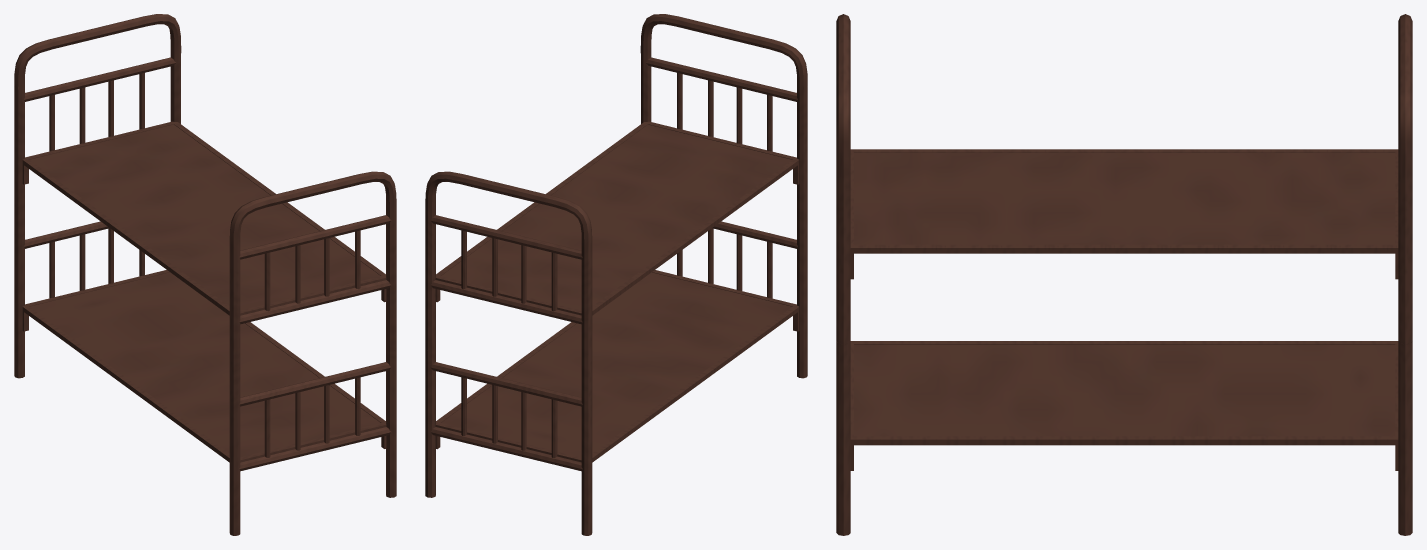
Rendered from Bed2.fbx.
3 views of the same model, side by side, from view 1: azimuth 30°, elevation 25°; view 2: azimuth 150°, elevation 25°; view 3: azimuth 270°, elevation 25° (orthographic). The views are drawn at different scales.
Parts seen in each view (by area): view 1: Cube.035; view 2: Cube.035; view 3: Cube.035.
Boxes of the visible parts, x1,y1,x2,y2 form: Cube.035: (14, 14, 396, 535); Cube.035: (425, 14, 807, 535); Cube.035: (836, 14, 1412, 535).
Size of the model in its own units: 137 by 260 by 316.
